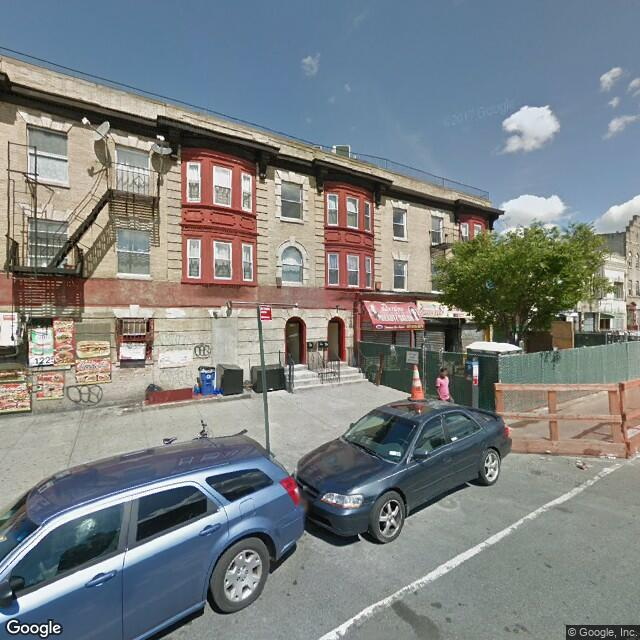litter: (577, 456, 591, 479)
